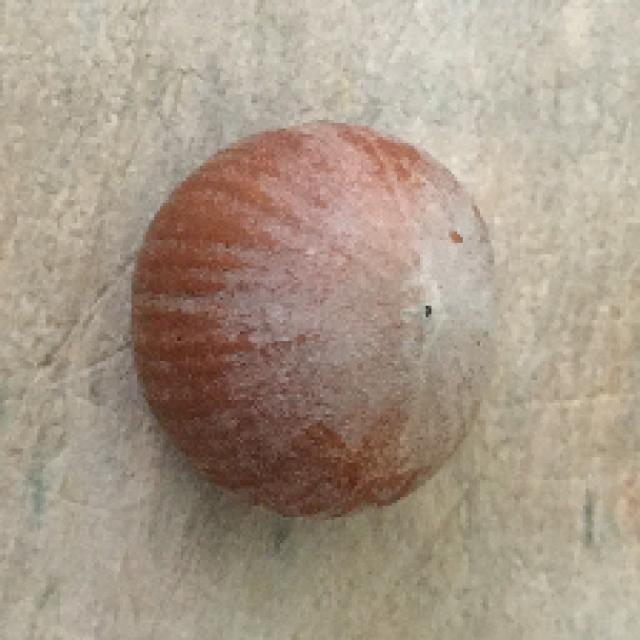QualityHazelnut: (130, 123, 500, 522)
